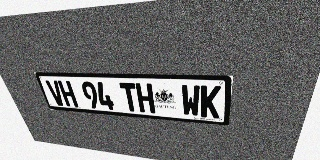4: (94, 82, 115, 110)
9: (80, 81, 101, 109)
H: (135, 83, 155, 113), (57, 80, 79, 107)
K: (201, 85, 221, 118)
T: (119, 82, 140, 112)
V: (45, 80, 66, 106)
W: (181, 85, 200, 117)
